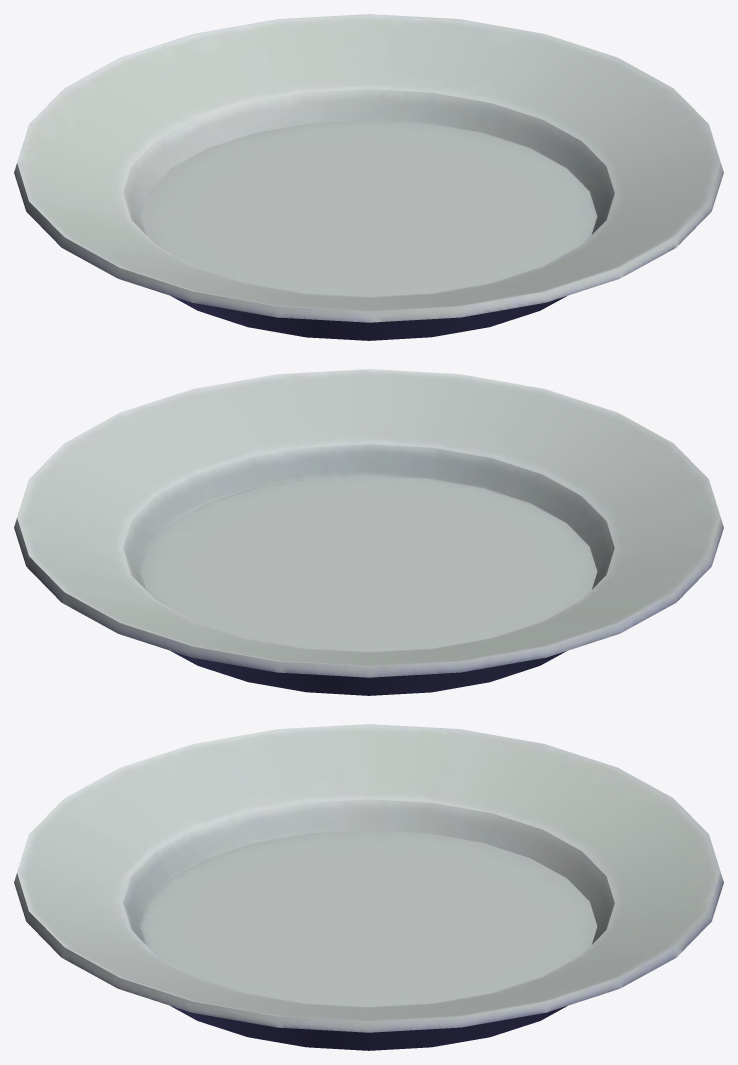
File: plate.glb
3 views of the same model, one above another, from view 1: azimuth 30°, elevation 25°; view 2: azimuth 150°, elevation 25°; view 3: azimuth 270°, elevation 25° (orthographic).
Parts seen in each view (by area): view 1: Object_5.002; view 2: Object_5.002; view 3: Object_5.002.
Part boxes in pixels (x1,y1,x2,y2): Object_5.002: [14, 14, 723, 340]; Object_5.002: [14, 369, 723, 695]; Object_5.002: [14, 724, 723, 1050].
Bounding box in the file's own units: 1.5 × 0.1996 × 1.5.
1 material, 1 textured.
